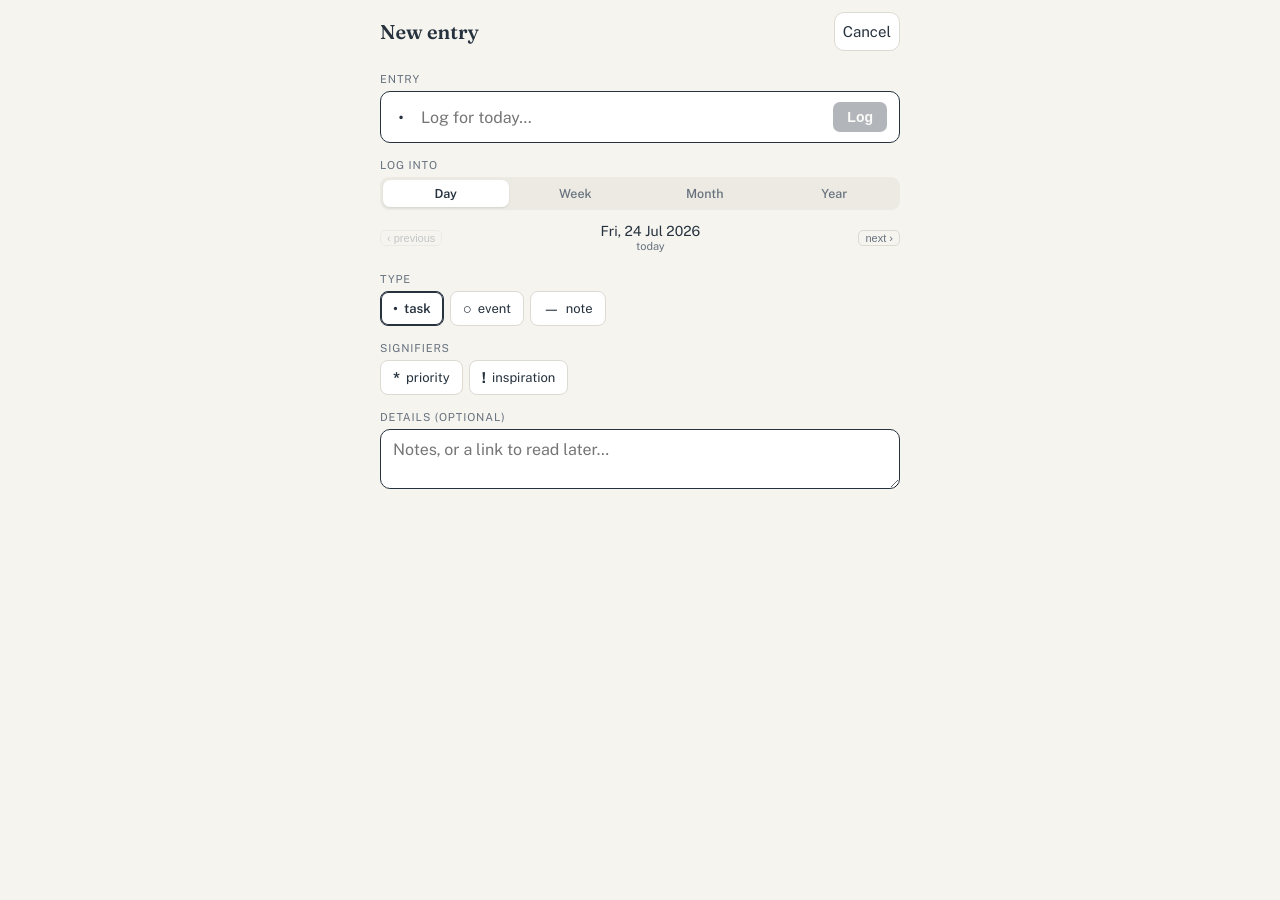
Scenario: page selection › capture cannot reach into the past, in the steppers or in the chooser
expect the button with aria-label "Previous day" is disabled: met, box [380, 230, 442, 246]
Click the button with aria-label "choose a different day" at (650, 238), box [450, 218, 850, 257]
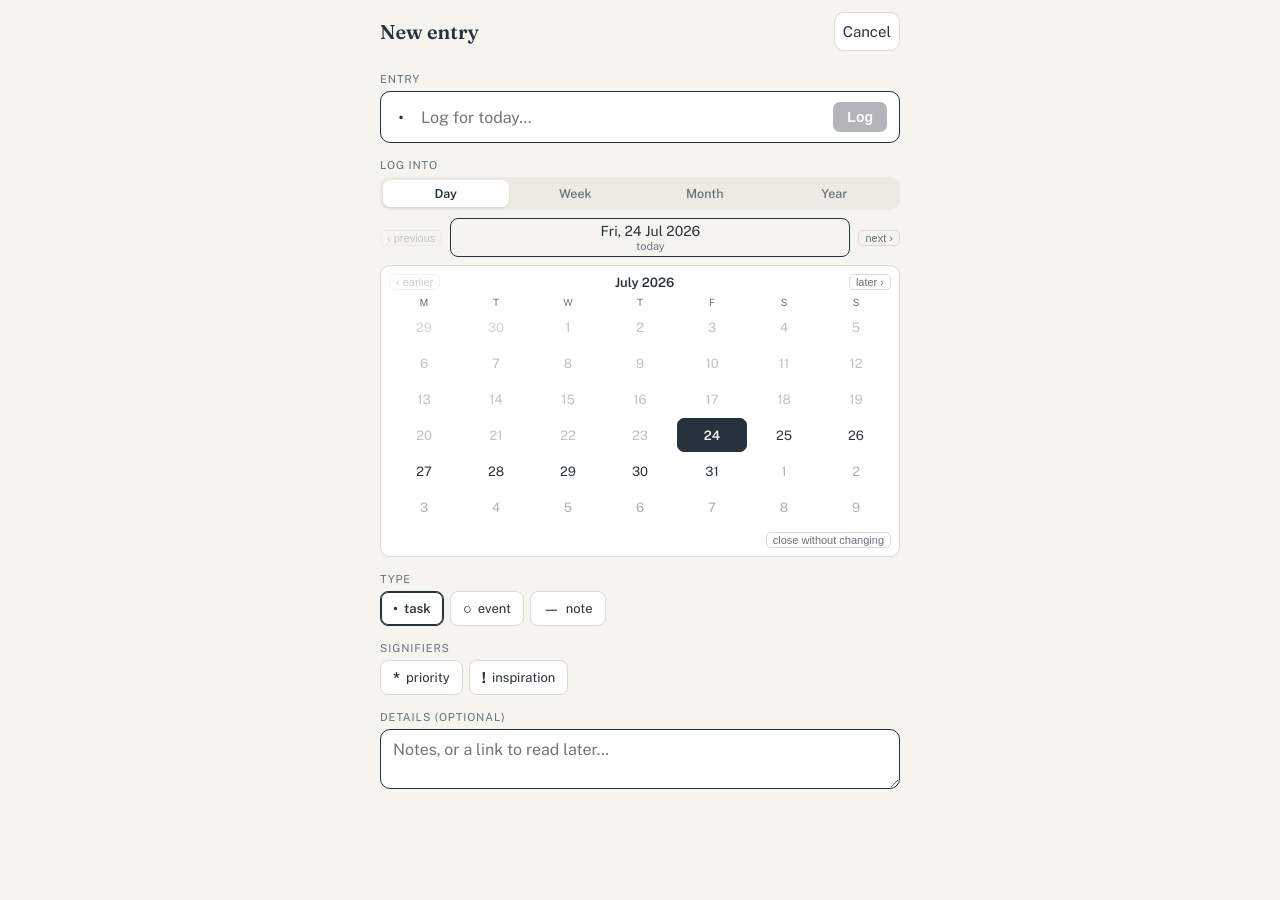
expect the button named "Thu, 23 Jul 2026" is disabled: met, box [605, 418, 675, 452]
expect the button named "Mon, 27 Jul 2026" is enabled: met, box [389, 454, 459, 488]
